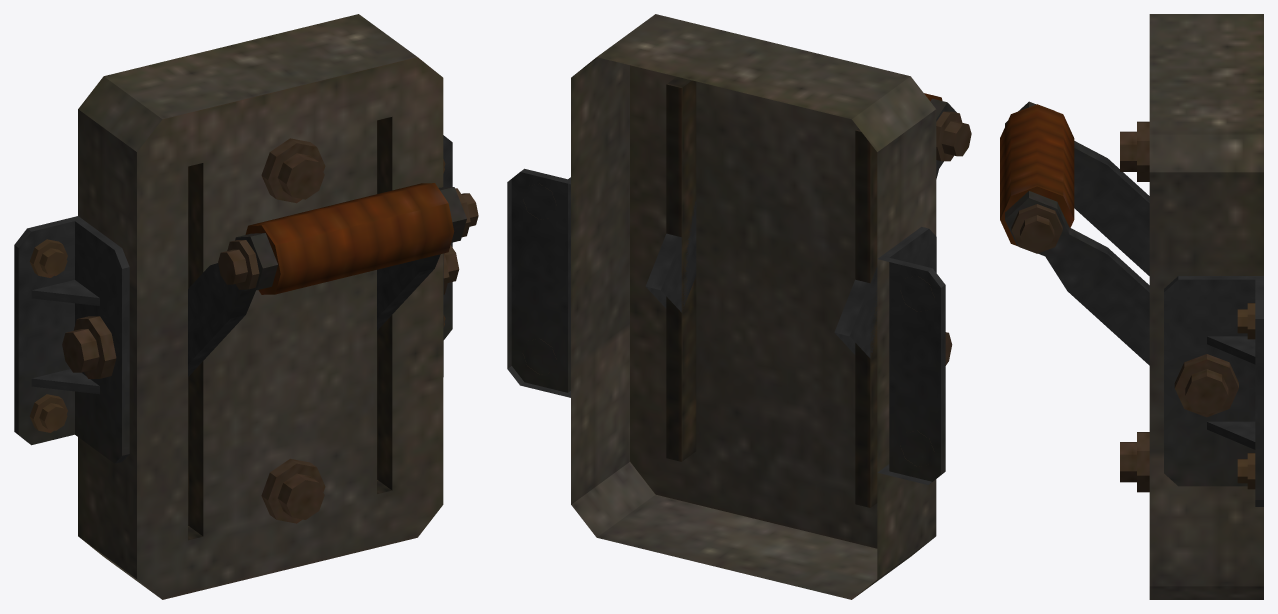
File: lever_etx_2.obj
3 views of the same model, side by side, from view 1: azimuth 30°, elevation 25°; view 2: azimuth 150°, elevation 25°; view 3: azimuth 270°, elevation 25° (orthographic). The views are drawn at different scales.
Visible parts, largest first — view 1: lever_etx_2, lever_etx_2_child; view 2: lever_etx_2, lever_etx_2_child; view 3: lever_etx_2, lever_etx_2_child.
Part boxes in pixels (x1=…): lever_etx_2: x1=14, y1=14, x2=459, y2=599; lever_etx_2_child: x1=188, y1=183, x2=478, y2=376; lever_etx_2: x1=507, y1=14, x2=952, y2=599; lever_etx_2_child: x1=645, y1=93, x2=971, y2=358; lever_etx_2: x1=1120, y1=14, x2=1263, y2=599; lever_etx_2_child: x1=1000, y1=101, x2=1149, y2=365.
Bounding box in the file's own units: 0.306 × 0.324 × 0.1665.
